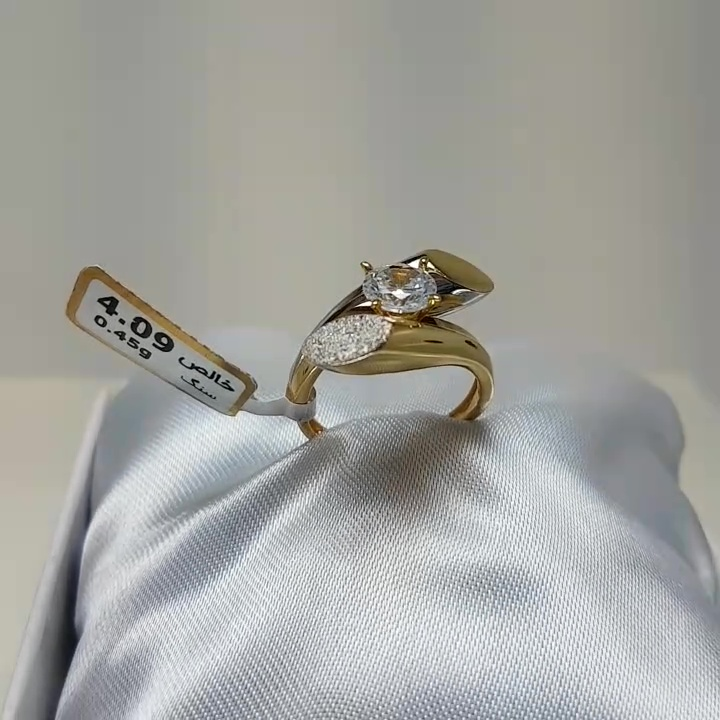Ring 7: (266, 231, 499, 450)
